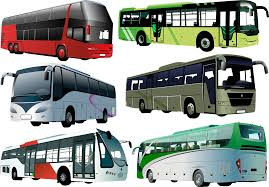bus: (125, 54, 269, 118), (132, 122, 268, 187), (118, 1, 269, 53), (1, 65, 117, 130), (1, 130, 132, 184), (1, 1, 113, 61)
